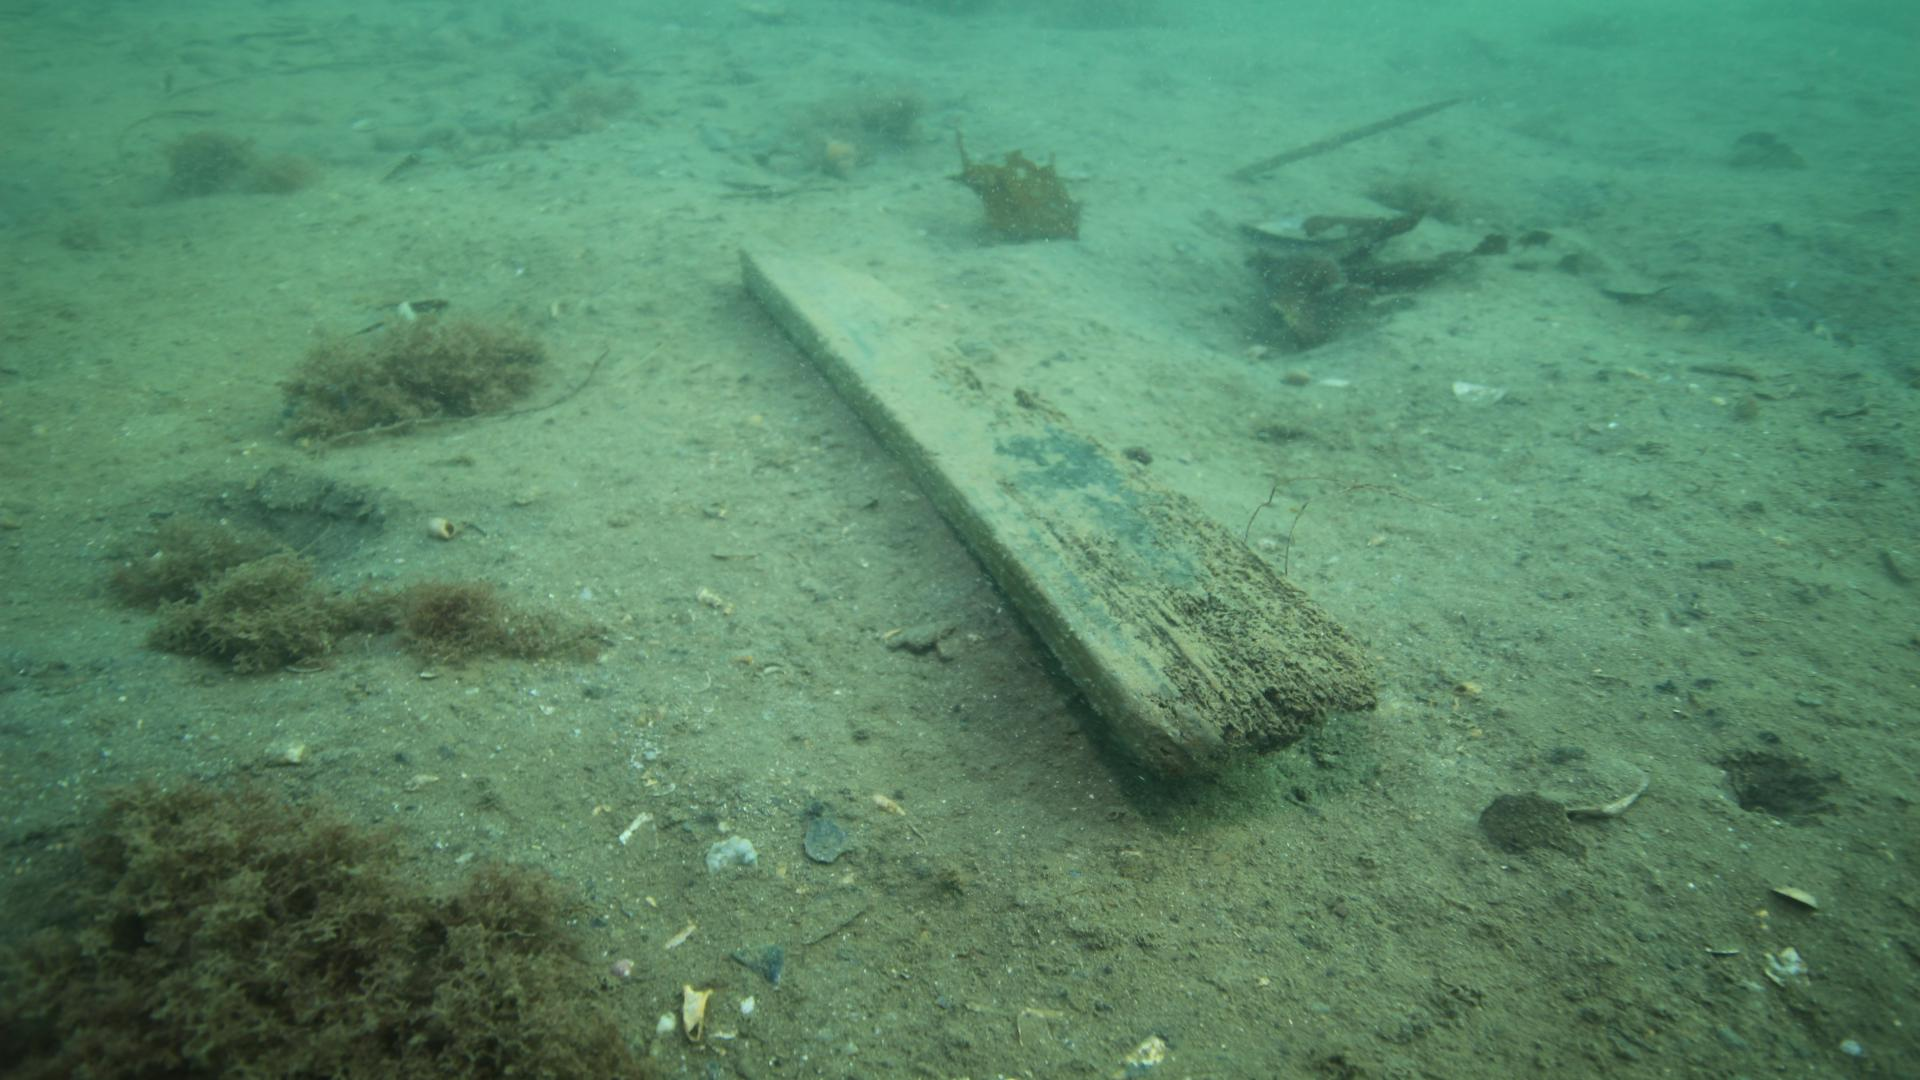wood: (735, 241, 1379, 771)
